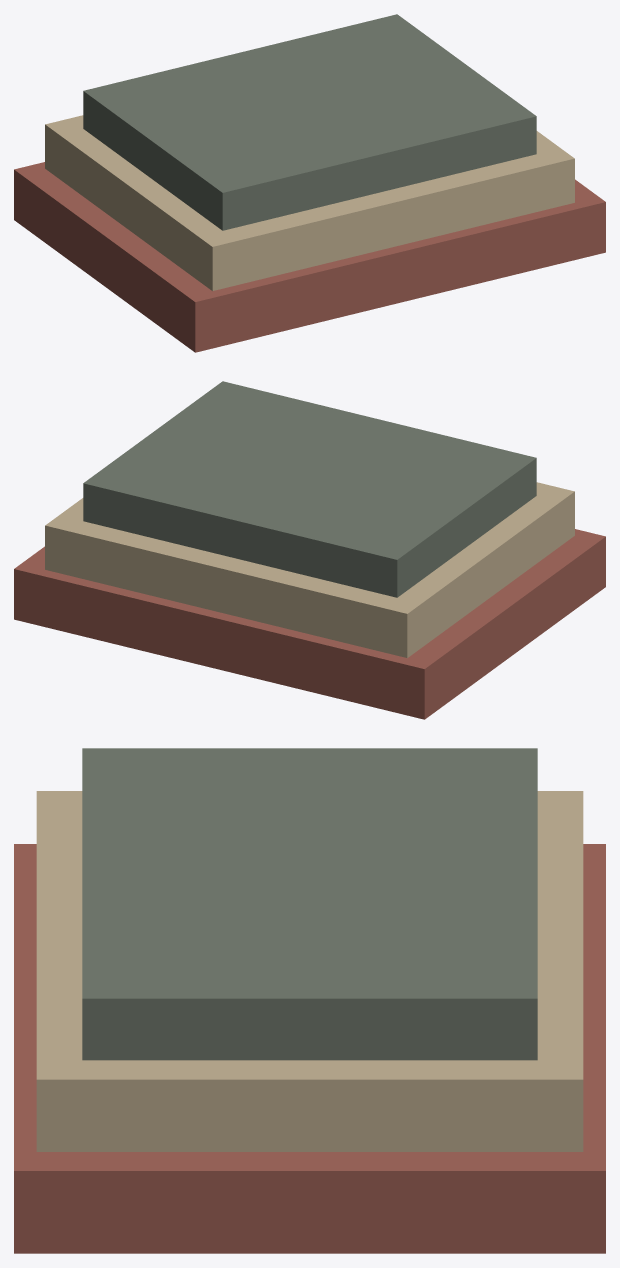
Rendered from SM_Decor_BookStack.fbx.
3 views of the same model, one above another, from view 1: azimuth 30°, elevation 25°; view 2: azimuth 150°, elevation 25°; view 3: azimuth 270°, elevation 25° (orthographic). The views are drawn at different scales.
Visible parts, largest first — view 1: SM_Decor_BookStack; view 2: SM_Decor_BookStack; view 3: SM_Decor_BookStack.
Part boxes in pixels (left/top/right/bottom): SM_Decor_BookStack: left=14, top=14, right=605, bottom=352; SM_Decor_BookStack: left=14, top=381, right=605, bottom=719; SM_Decor_BookStack: left=14, top=748, right=605, bottom=1253.
Bounding box in the file's own units: 34 × 10.5 × 26.
